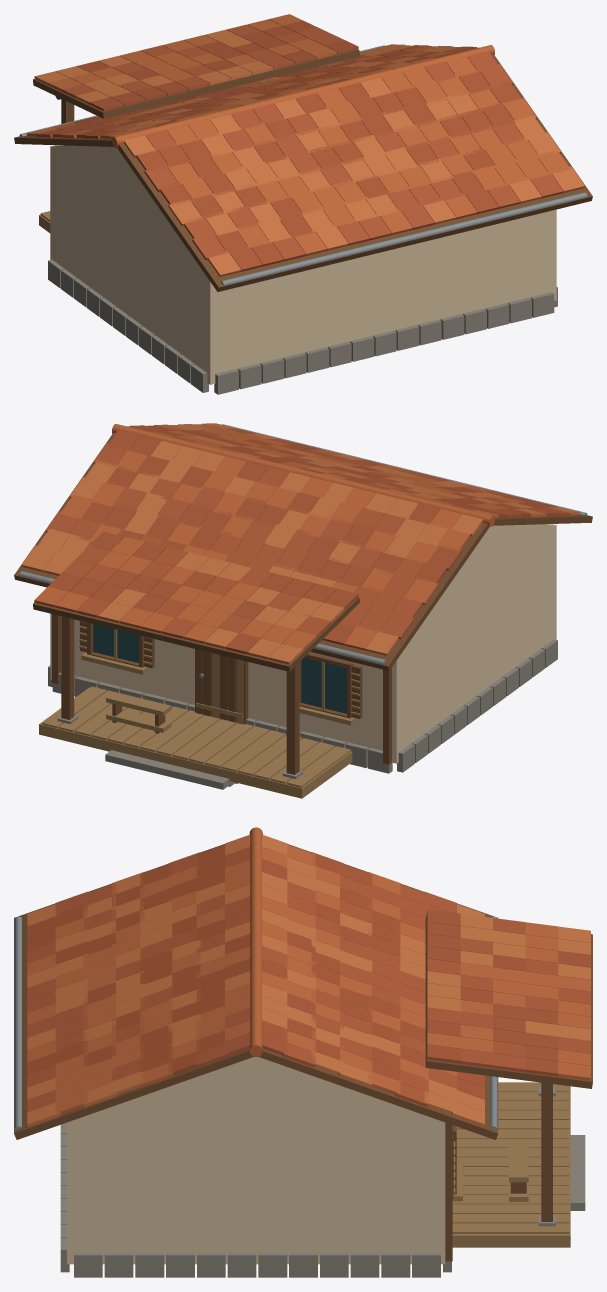
Rendered from casa.glb.
The picture shows the model from 3 angles, top to bottom: view 1: azimuth 30°, elevation 25°; view 2: azimuth 150°, elevation 25°; view 3: azimuth 270°, elevation 25°; orthographic projection. The views are drawn at different scales.
Visible parts, largest first — view 1: Casa | volume principal, Água do telhado | base, Frontão frontal, Cobertura do alpendre, Cumeeira cerâmica, Calha de beiral, Água do telhado | base.001, Telha colonial | fiada 04, Telha colonial | fiada 06, Telha colonial | fiada 02, Telha colonial | fiada 07, Pedra da fundação.001 (+61 smaller); view 2: Casa | volume principal, Frontão frontal, Alpendre | piso de tábuas, Água do telhado | base.001, Cobertura do alpendre, Cumeeira cerâmica, Janela | vidro, Degrau de pedra, Pilar do alpendre, Pilar do alpendre.001, Janela | vidro.001, Porta principal (+53 smaller); view 3: Casa | volume principal, Frontão frontal, Água do telhado | base, Água do telhado | base.001, Cumeeira cerâmica, Cobertura do alpendre, Alpendre | piso de tábuas, Calha de beiral, Pilar do alpendre.001, Tábua do alpendre.015, Degrau de pedra, Esteio de canto.001 (+26 smaller).
Boxes of the visible parts, x1,y1,x2,y2 form: Casa | volume principal: [50, 145, 556, 384]; Água do telhado | base: [117, 53, 592, 291]; Frontão frontal: [50, 145, 184, 245]; Cobertura do alpendre: [33, 49, 359, 118]; Cumeeira cerâmica: [112, 45, 494, 147]; Calha de beiral: [221, 192, 587, 285]; Água do telhado | base.001: [14, 135, 113, 146]; Telha colonial | fiada 04: [168, 199, 202, 225]; Telha colonial | fiada 06: [192, 234, 226, 260]; Telha colonial | fiada 02: [144, 165, 179, 191]; Telha colonial | fiada 07: [208, 250, 241, 276]; Pedra da fundação.001: [214, 369, 238, 394]; Casa | volume principal: [50, 524, 556, 763]; Frontão frontal: [422, 524, 556, 624]; Alpendre | piso de tábuas: [39, 687, 352, 798]; Água do telhado | base.001: [14, 432, 489, 670]; Cobertura do alpendre: [33, 597, 359, 671]; Cumeeira cerâmica: [112, 424, 494, 526]; Janela | vidro: [301, 657, 346, 713]; Degrau de pedra: [105, 750, 230, 789]; Pilar do alpendre: [286, 662, 299, 774]; Pilar do alpendre.001: [61, 616, 74, 719]; Janela | vidro.001: [93, 624, 138, 662]; Porta principal: [195, 649, 248, 724]; Casa | volume principal: [67, 1121, 445, 1264]; Frontão frontal: [71, 1057, 441, 1121]; Água do telhado | base: [14, 844, 253, 1139]; Água do telhado | base.001: [259, 844, 498, 1139]; Cumeeira cerâmica: [249, 827, 262, 1057]; Cobertura do alpendre: [425, 913, 592, 1088]; Alpendre | piso de tábuas: [452, 1086, 570, 1247]; Calha de beiral: [14, 916, 21, 1130]; Pilar do alpendre.001: [541, 1083, 552, 1221]; Tábua do alpendre.015: [452, 1223, 569, 1233]; Degrau de pedra: [570, 1135, 585, 1210]; Esteio de canto.001: [445, 1122, 452, 1261].
Bounding box in the file's own units: 10.9 × 5.73 × 12.24.
